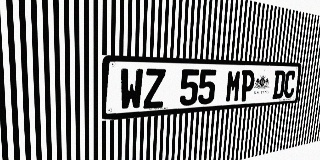5: (179, 69, 199, 106), (198, 69, 216, 105)
C: (283, 71, 296, 98)
D: (272, 70, 286, 99)
M: (225, 70, 242, 103)
P: (239, 70, 255, 102)
W: (119, 68, 144, 111)
Z: (143, 69, 166, 109)
